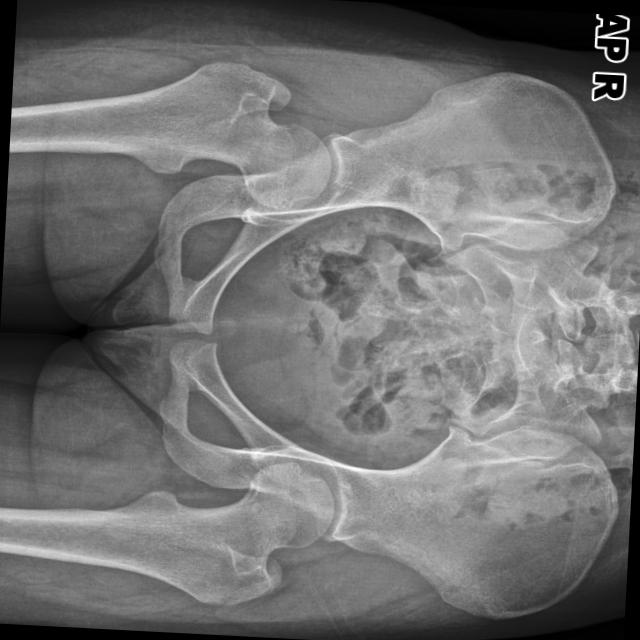normal-left: (0, 462, 333, 605)
normal-right: (8, 62, 329, 209)
